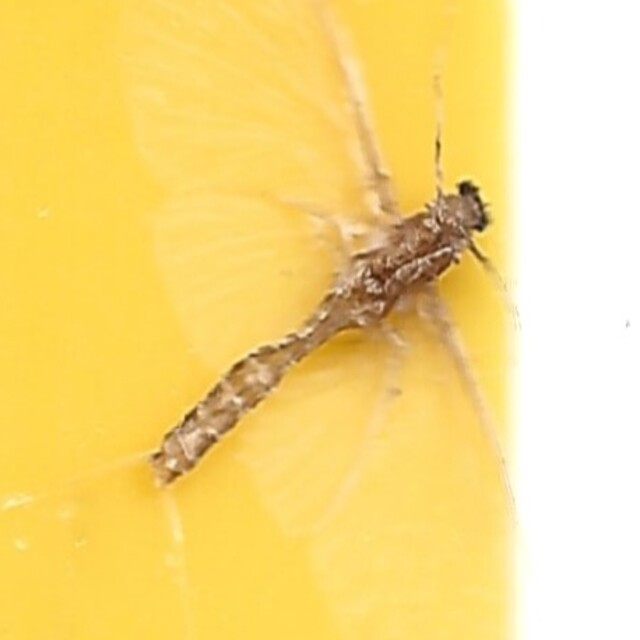Ephemeroptera: (140, 171, 500, 469)
